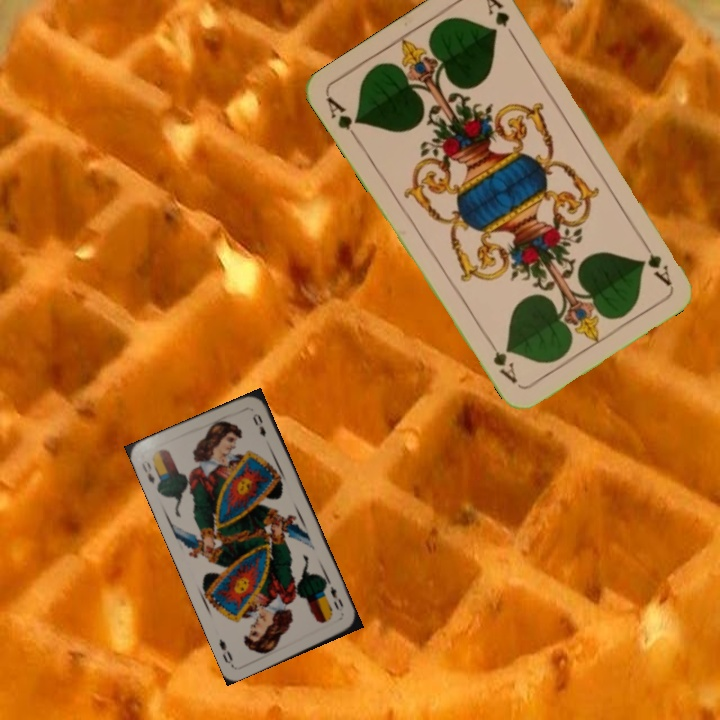EO: (326, 582, 346, 614), (137, 458, 157, 486)
GA: (322, 93, 363, 145), (637, 235, 674, 289)
